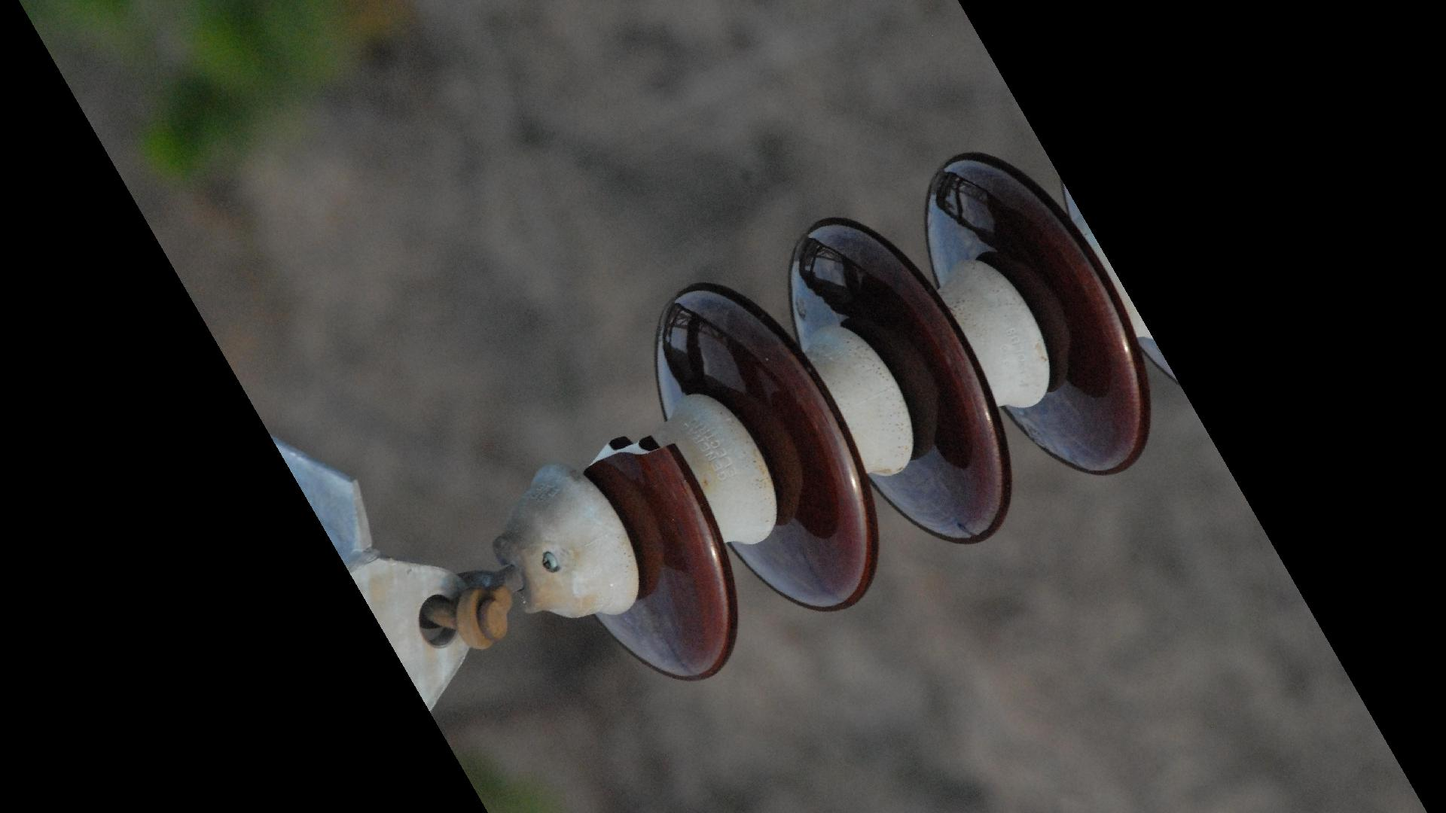insulator: (567, 146, 1154, 687)
insulator_breakage: (568, 420, 688, 477)
